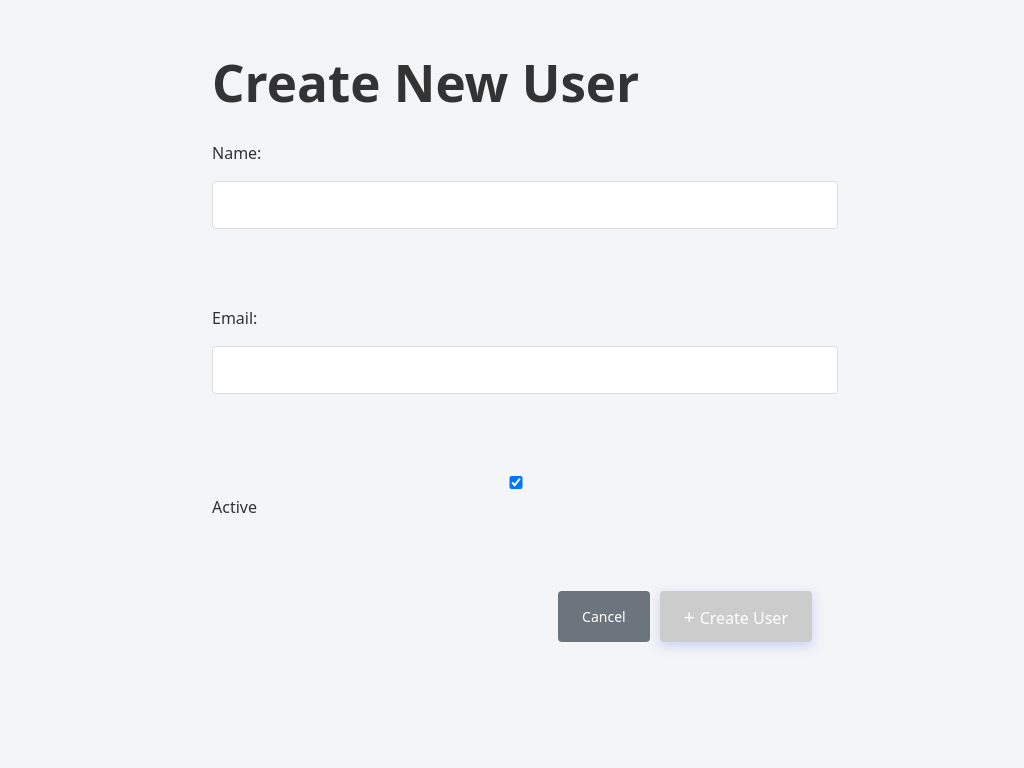
Test: CreateUser › handles non-Error exception when createUser fails
The width and height of the screenshot is (1024, 768).
Type "Alice Smith" into the field labelled "Name:" at (525, 205), box [212, 181, 838, 229]
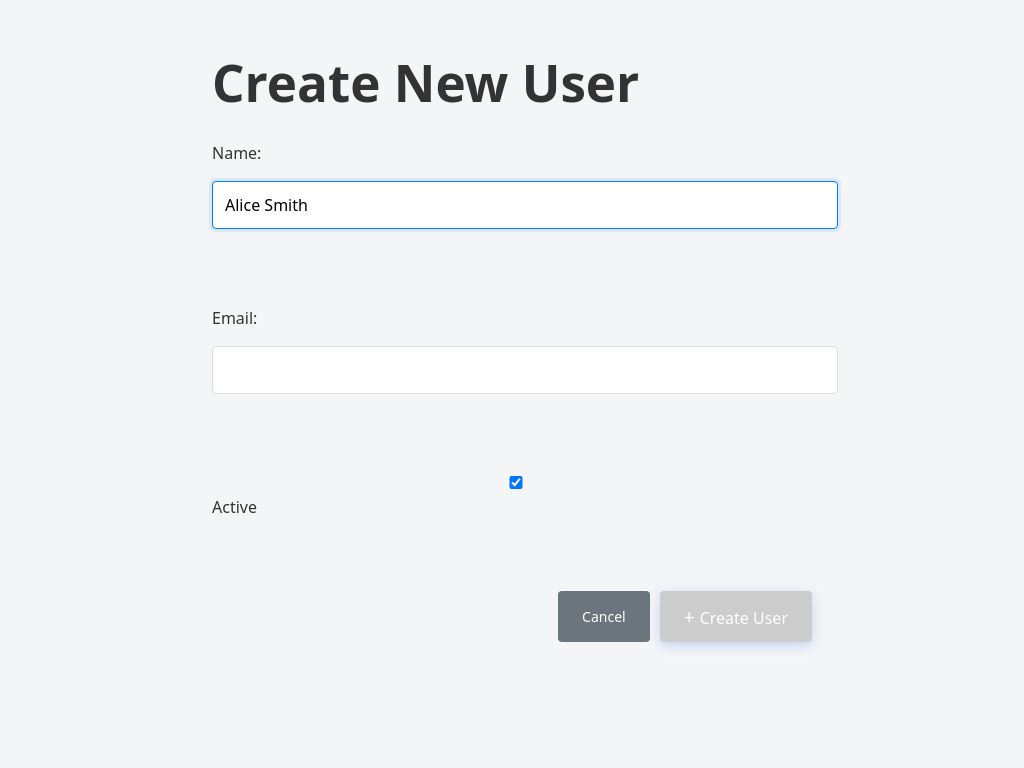
Type "alice.smith@example.com" into the field labelled "Email:" at (525, 370), box [212, 346, 838, 394]
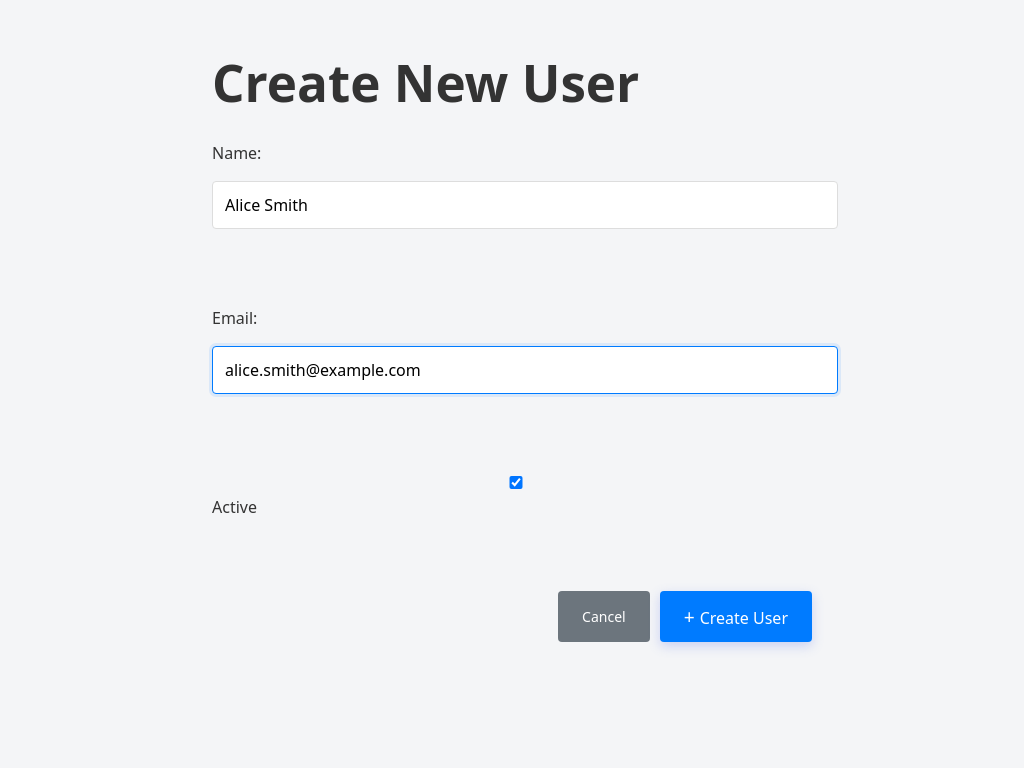
Click the button "Create User" at (736, 616), box [660, 591, 812, 642]
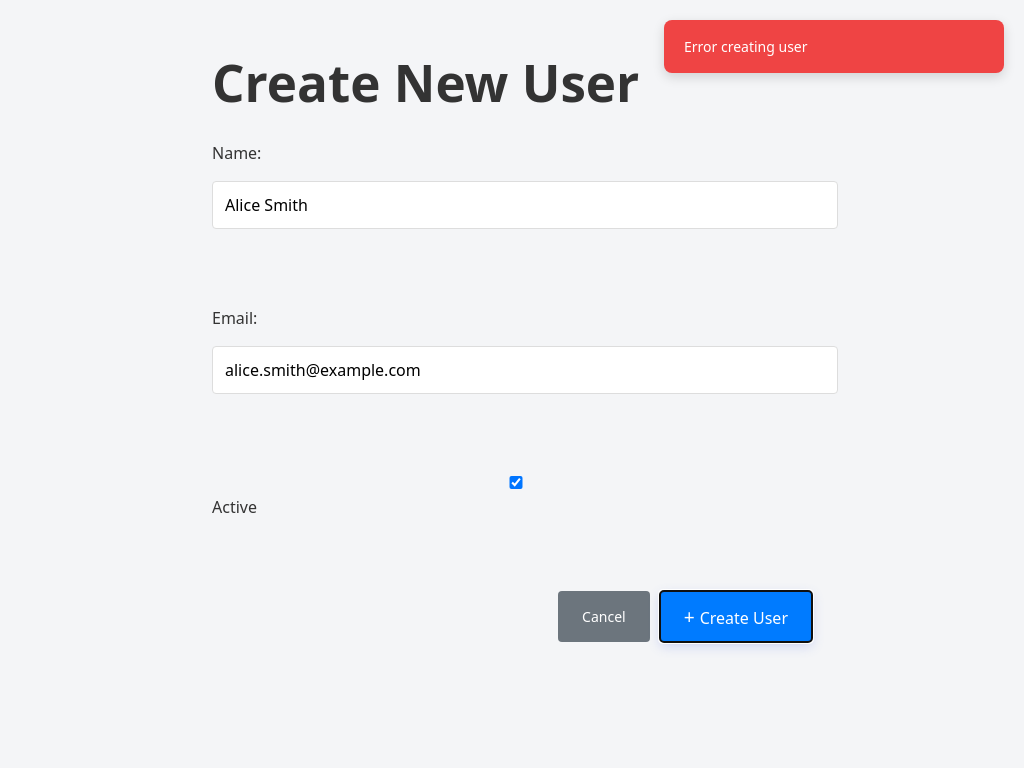
Result: the text "Error creating user" is shown at [664, 20, 1004, 73]
